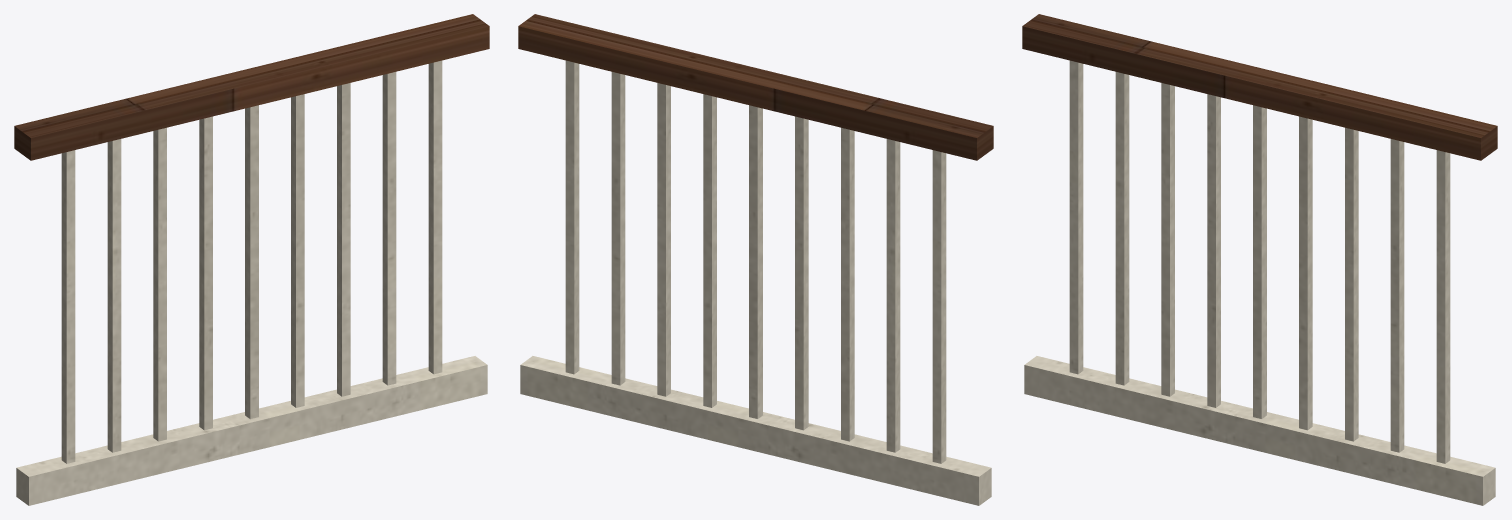
Rendered from rail_127_00.glb.
The picture shows the model from 3 angles, left to right: view 1: azimuth 30°, elevation 25°; view 2: azimuth 150°, elevation 25°; view 3: azimuth 330°, elevation 25°; orthographic projection.
Visible parts, largest first — view 1: rail_127_00_trim, rail_127_00_wood; view 2: rail_127_00_trim, rail_127_00_wood; view 3: rail_127_00_trim, rail_127_00_wood.
Boxes of the visible parts, x1,y1,x2,y2 form: rail_127_00_trim: (16, 60, 487, 505); rail_127_00_wood: (14, 14, 489, 160); rail_127_00_trim: (520, 60, 991, 505); rail_127_00_wood: (518, 14, 993, 160); rail_127_00_trim: (1024, 60, 1495, 505); rail_127_00_wood: (1022, 14, 1497, 160).
Bounding box in the file's own units: 1.27 × 0.977 × 0.08.
2 materials, 2 textured.
